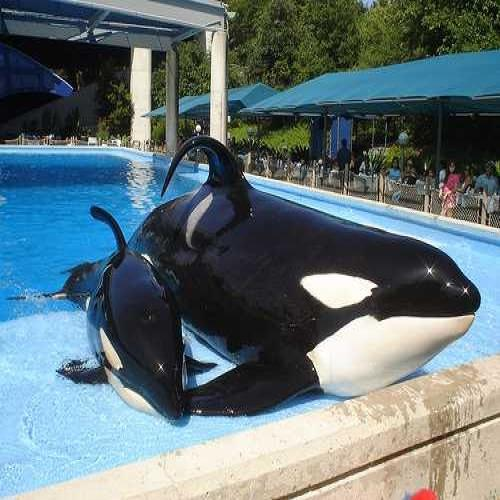killer_whale-endangered: (142, 137, 500, 393), (67, 200, 211, 432)
